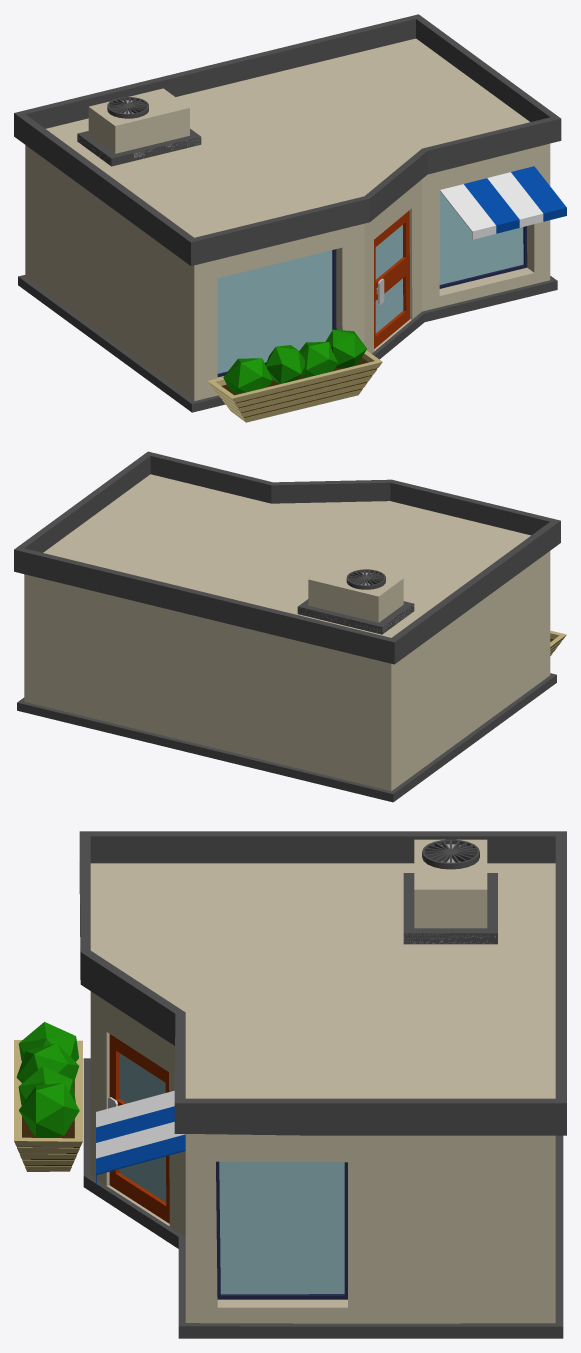
Rendered from Shop.fbx.
3 views of the same model, one above another, from view 1: azimuth 30°, elevation 25°; view 2: azimuth 150°, elevation 25°; view 3: azimuth 270°, elevation 25° (orthographic). The views are drawn at different scales.
Visible parts, largest first — view 1: pCube1, pCube5, pCube3, pPlatonic3, pPlatonic4, pPlatonic1, pPlatonic2; view 2: pCube1, pCube5; view 3: pCube1, pCube5, pCube3, pPlatonic1, pPlatonic4, pPlatonic3, pPlatonic2.
Boxes of the visible parts, x1,y1,x2,y2 form: pCube1: [14, 14, 566, 412]; pCube5: [77, 88, 201, 166]; pCube3: [207, 350, 382, 422]; pPlatonic3: [223, 358, 272, 393]; pPlatonic4: [265, 345, 304, 383]; pPlatonic1: [325, 329, 366, 368]; pPlatonic2: [299, 342, 338, 377]; pCube1: [14, 451, 560, 802]; pCube5: [297, 561, 414, 634]; pCube1: [79, 831, 566, 1338]; pCube5: [403, 839, 497, 944]; pCube3: [14, 1040, 82, 1171]; pPlatonic1: [19, 1083, 79, 1137]; pPlatonic4: [16, 1043, 79, 1083]; pPlatonic3: [18, 1022, 78, 1061]; pPlatonic2: [18, 1066, 75, 1105].
Size of the model in its own units: 17.02 by 7.85 by 14.63.
